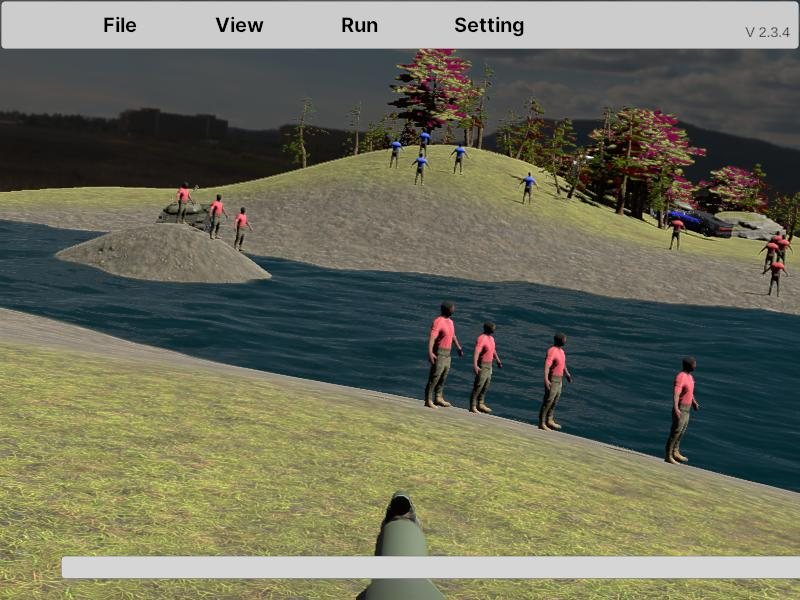Human: (425, 301, 463, 409), (666, 356, 699, 464), (538, 332, 572, 432), (538, 332, 571, 432), (470, 322, 503, 414), (209, 193, 228, 242), (233, 206, 252, 254), (176, 181, 192, 228)
car: (666, 208, 732, 238)
